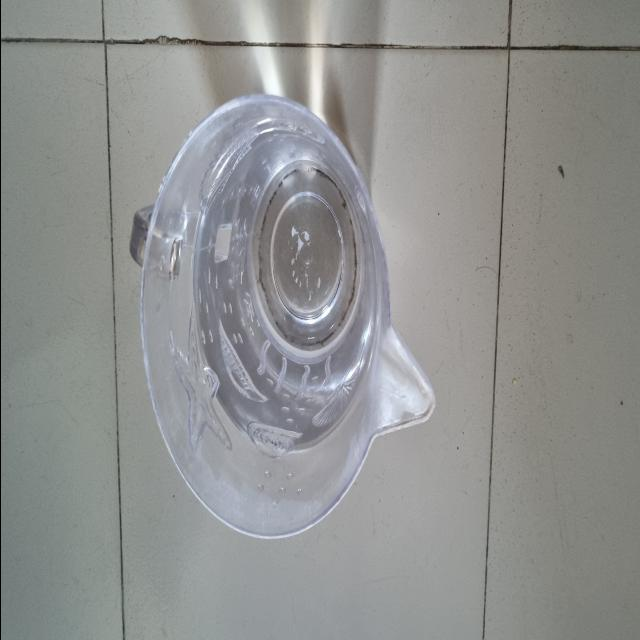Breeding Place: (128, 72, 440, 546)
